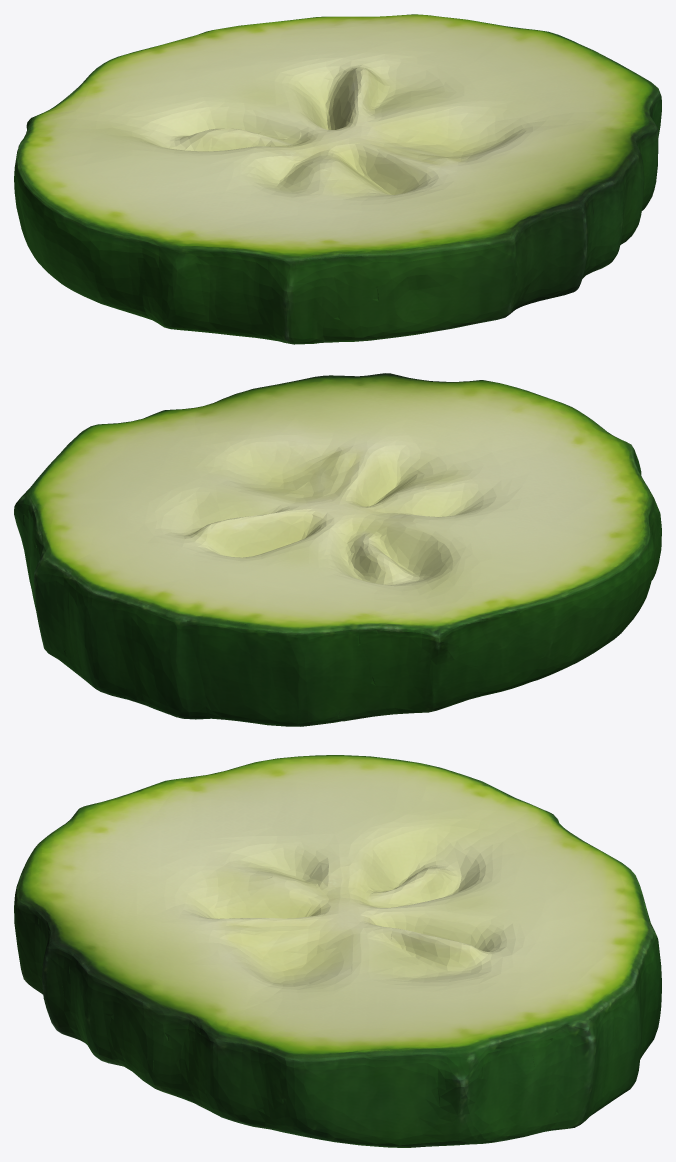
The model's file is cucumber.glb.
The picture shows the model from 3 angles, top to bottom: view 1: azimuth 30°, elevation 25°; view 2: azimuth 150°, elevation 25°; view 3: azimuth 270°, elevation 25°; orthographic projection. The views are drawn at different scales.
Parts seen in each view (by area): view 1: world; view 2: world; view 3: world.
Boxes of the visible parts, x1,y1,x2,y2 form: world: (14, 14, 661, 344); world: (14, 373, 661, 726); world: (14, 755, 661, 1147).
Bounding box in the file's own units: 0.9989 × 0.2394 × 0.9252.
1 material, 1 textured.
